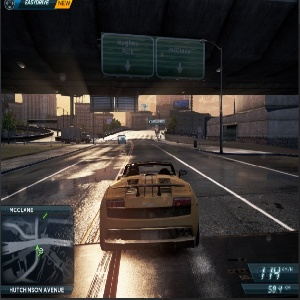lamp post: (198, 35, 228, 161)
road sign: (101, 32, 205, 82), (191, 128, 205, 156)
vehicle: (62, 128, 91, 144), (116, 133, 129, 145)
